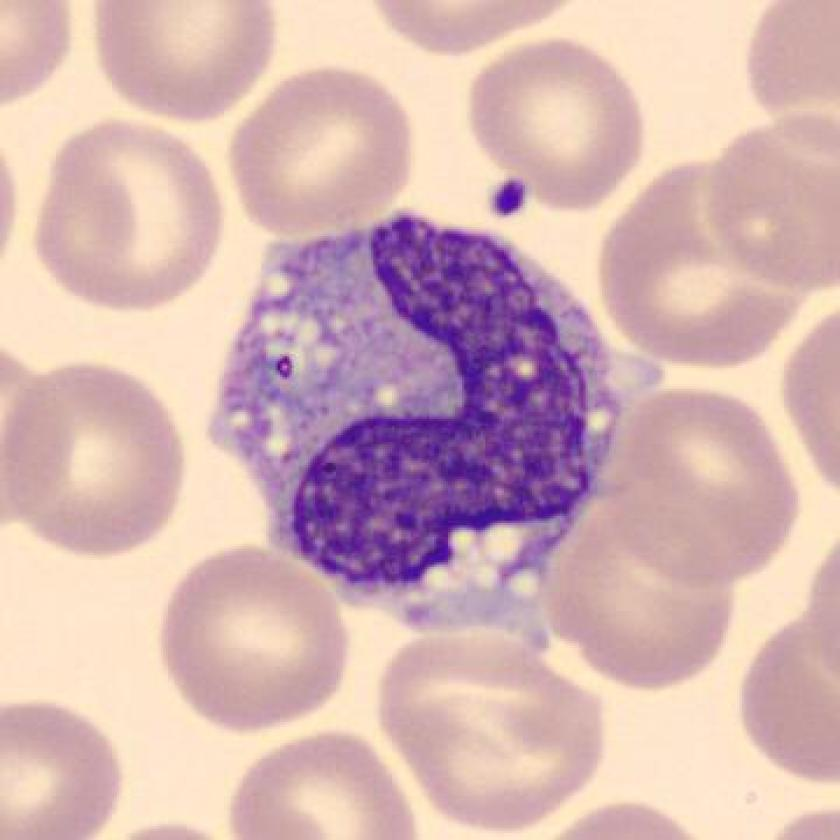monocyte: (192, 193, 680, 665)
